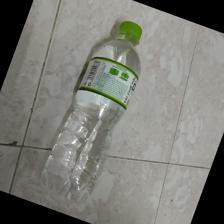Dasani: (39, 19, 143, 212)
